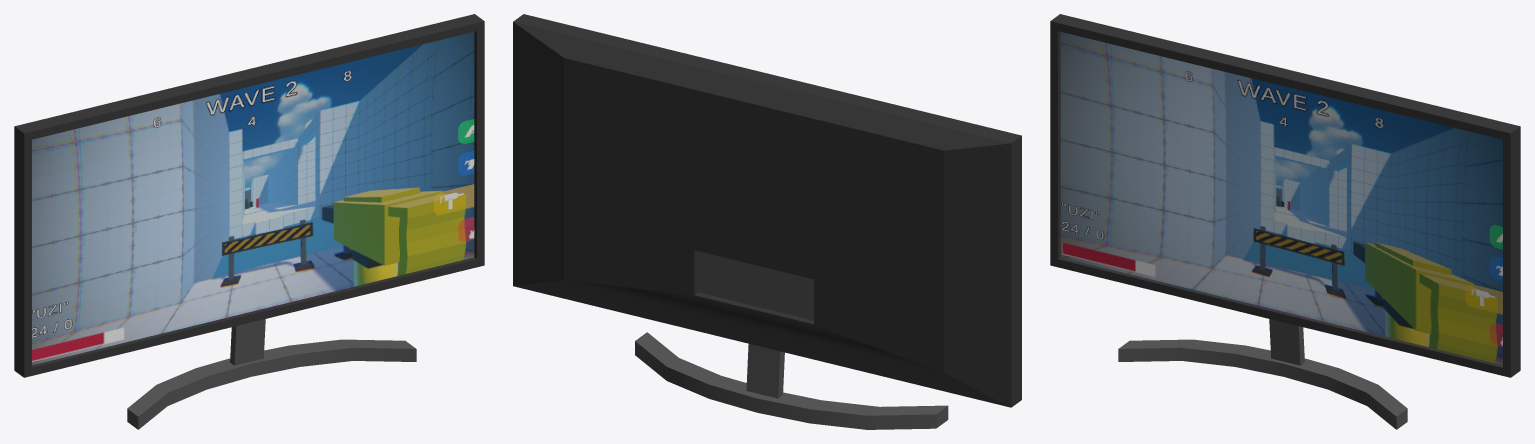
The picture shows the model from 3 angles, left to right: view 1: azimuth 30°, elevation 25°; view 2: azimuth 150°, elevation 25°; view 3: azimuth 330°, elevation 25°; orthographic projection. The views are drawn at different scales.
Parts seen in each view (by area): view 1: Monitor 2; view 2: Monitor 2; view 3: Monitor 2.
Boxes of the visible parts, left/top/right/bottom form: Monitor 2: left=14, top=14, right=484, bottom=429; Monitor 2: left=513, top=14, right=1021, bottom=429; Monitor 2: left=1050, top=14, right=1520, bottom=429.
Bounding box in the file's own units: 0.9385 × 0.5878 × 0.1421.
Materials: 2 (2 with a texture image).
